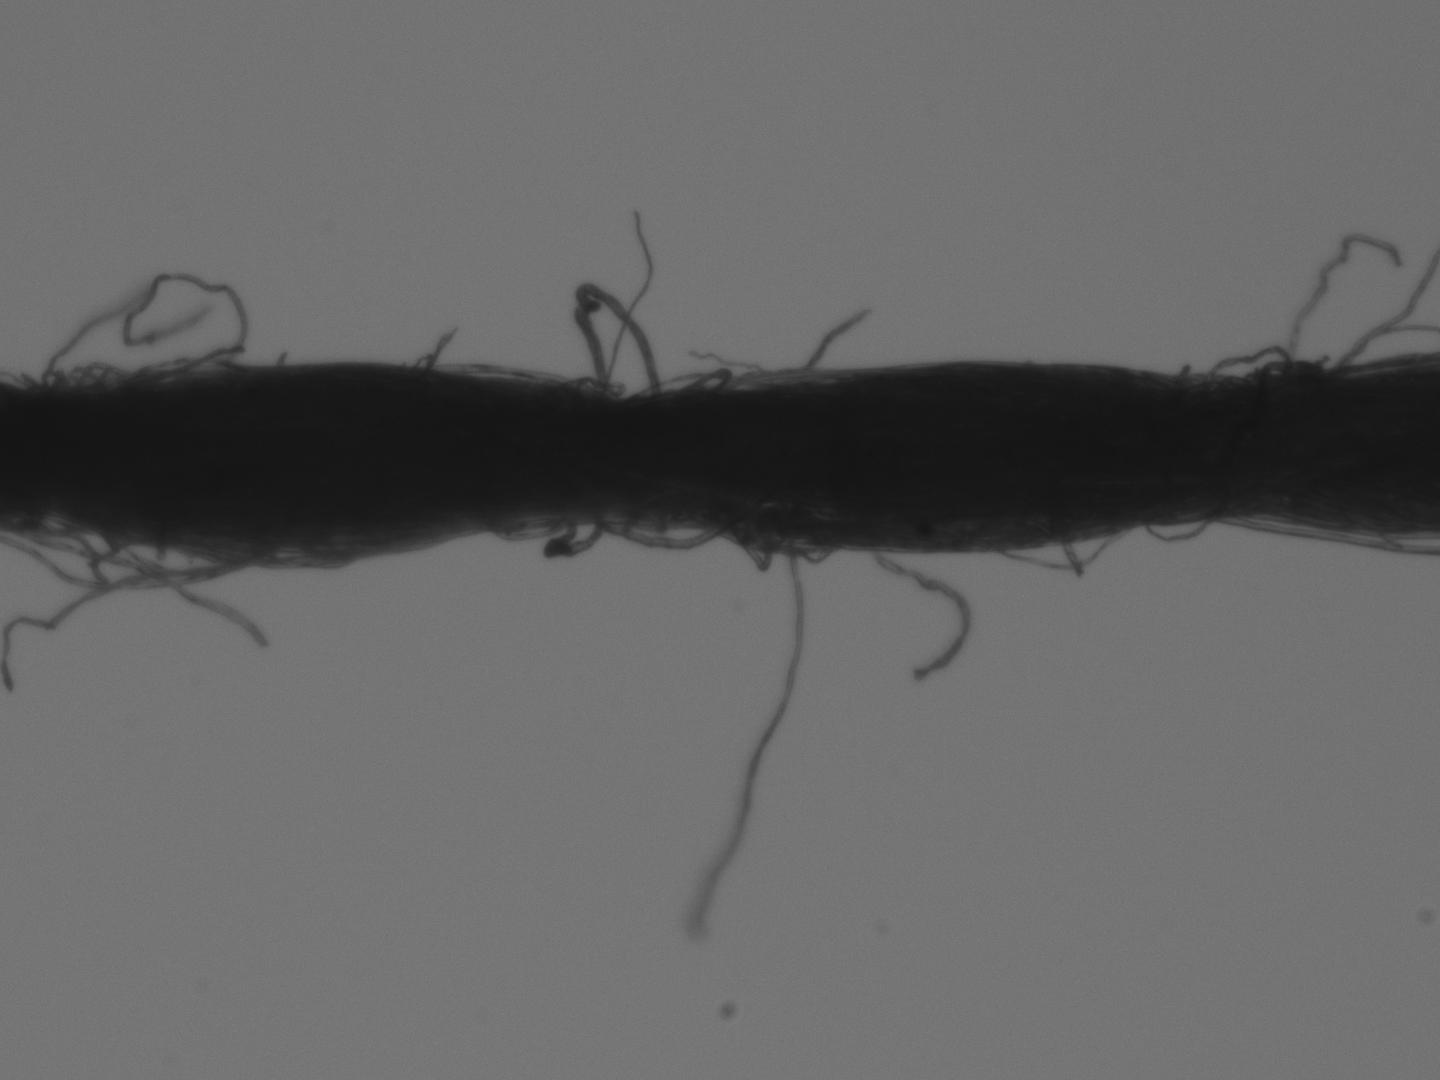loop_fiber: (2, 530, 269, 596), (575, 284, 660, 396), (992, 524, 1125, 573), (591, 517, 732, 551), (1202, 343, 1333, 379), (722, 363, 849, 396), (120, 356, 251, 388), (547, 516, 609, 554), (1140, 513, 1217, 542), (71, 361, 139, 391), (486, 521, 568, 543), (1240, 357, 1327, 378), (738, 534, 774, 571), (796, 541, 844, 567), (679, 366, 729, 389)
protruding_fiber: (686, 540, 805, 935), (1287, 231, 1401, 370), (864, 545, 980, 681), (802, 306, 870, 372), (1059, 537, 1081, 580)
